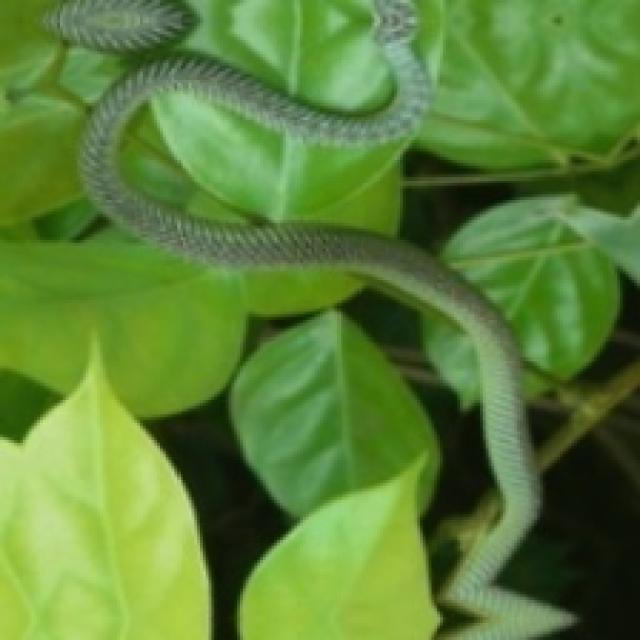paradise tree snake: (49, 0, 569, 637), (240, 480, 434, 637)
